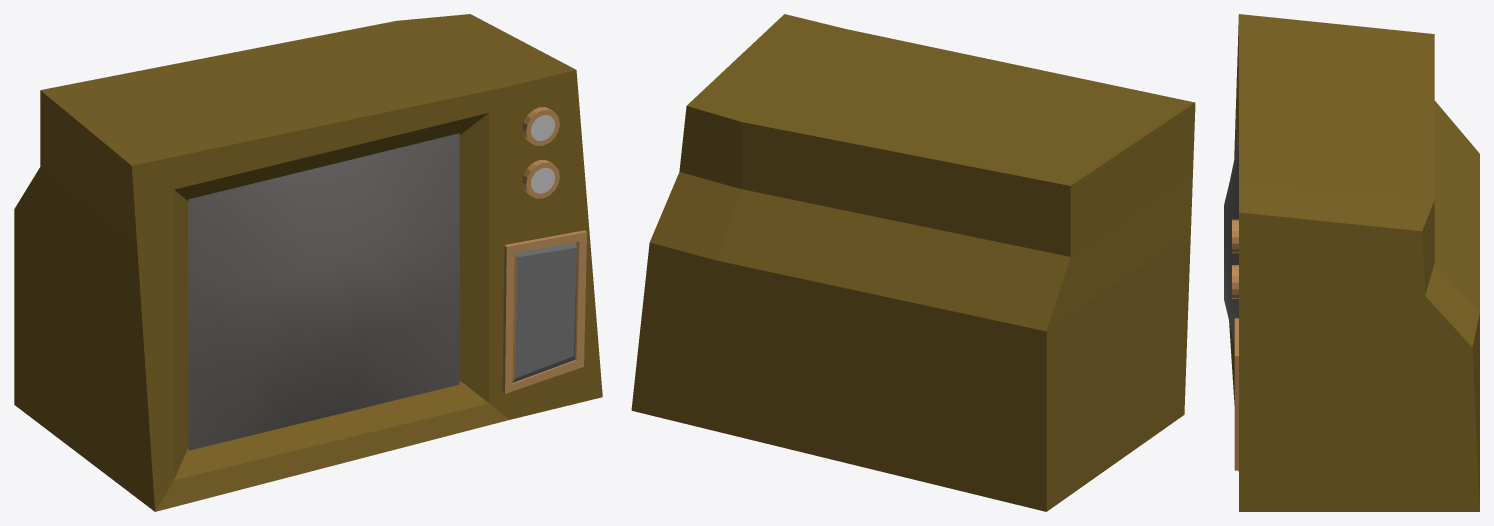
3 views of the same model, side by side, from view 1: azimuth 30°, elevation 25°; view 2: azimuth 150°, elevation 25°; view 3: azimuth 270°, elevation 25° (orthographic). The views are drawn at different scales.
Visible parts, largest first — view 1: TV; view 2: TV; view 3: TV.
Boxes of the visible parts, x1,y1,x2,y2 form: TV: (14,14,602,511); TV: (631,14,1195,511); TV: (1224,14,1479,511).
Size of the model in its own units: 171 by 93.28 by 120.
